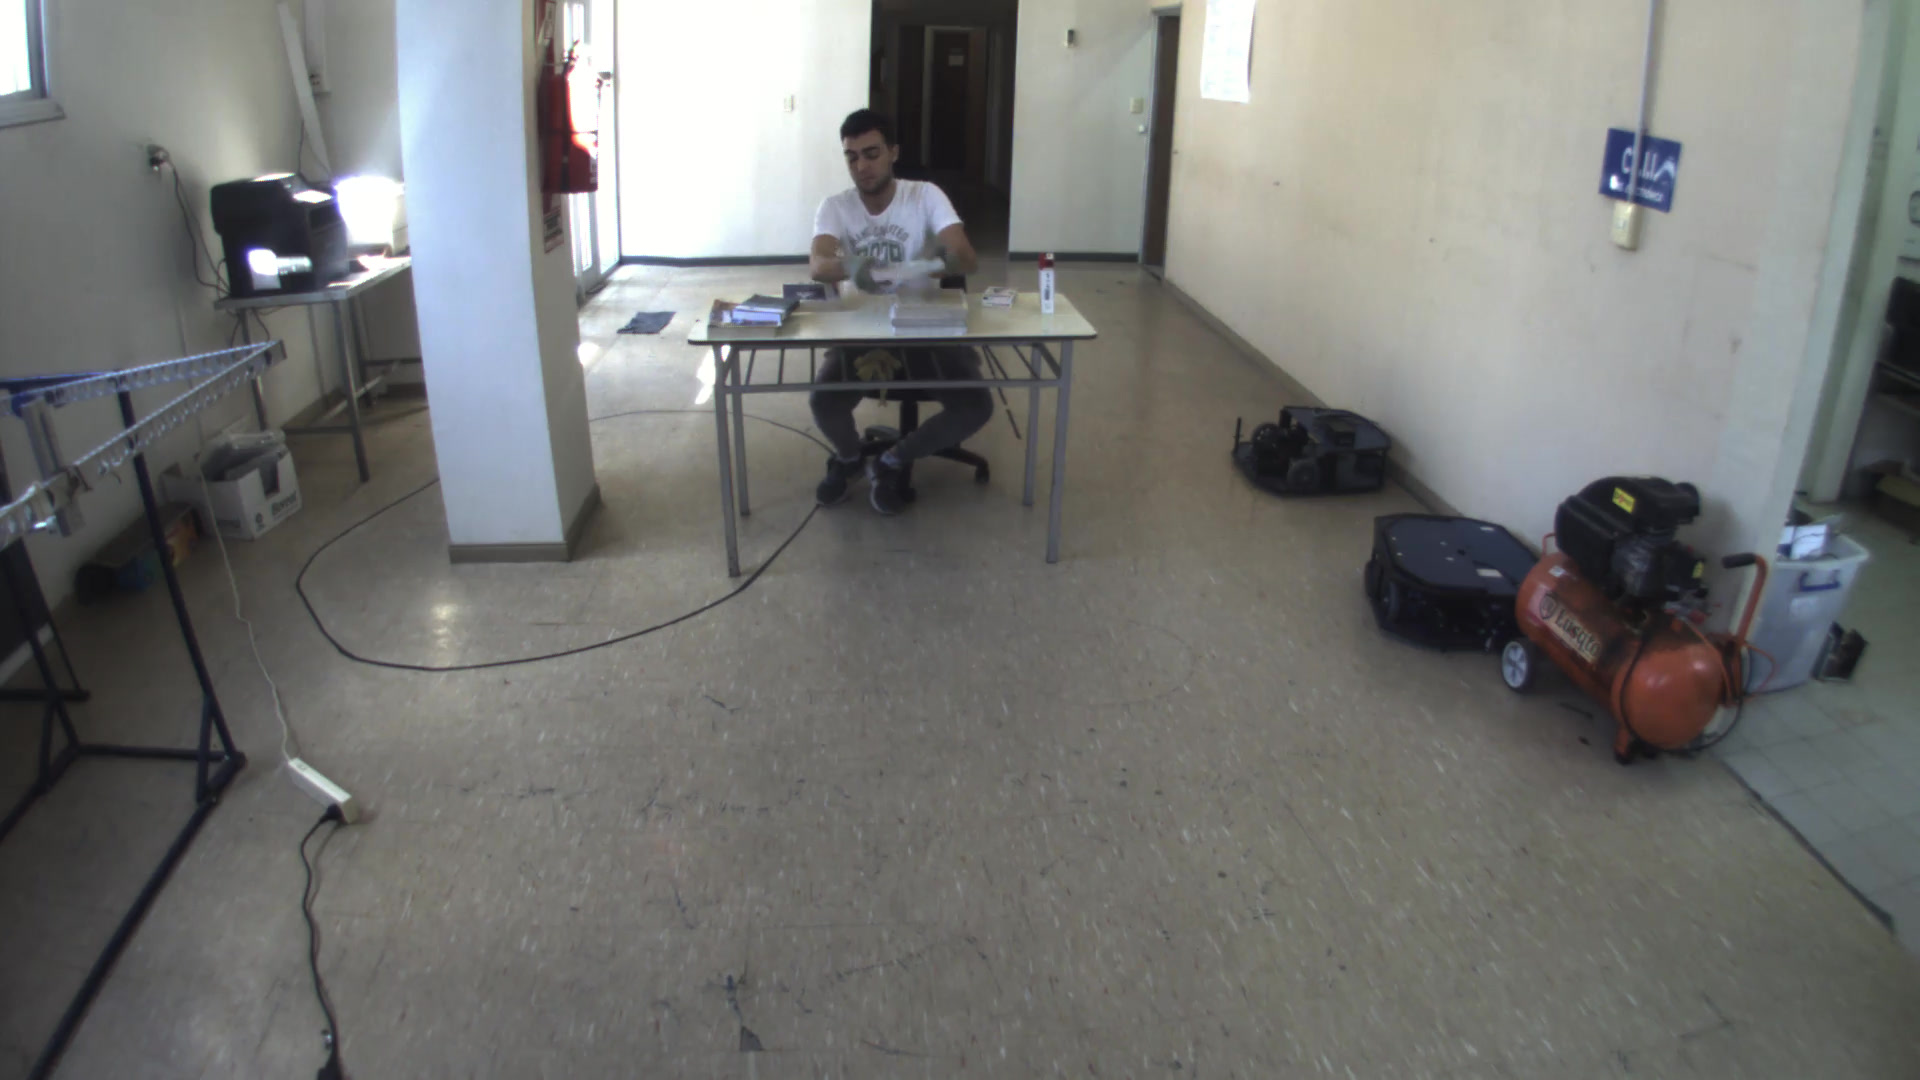hand: (836, 249, 890, 299), (916, 243, 967, 282)
